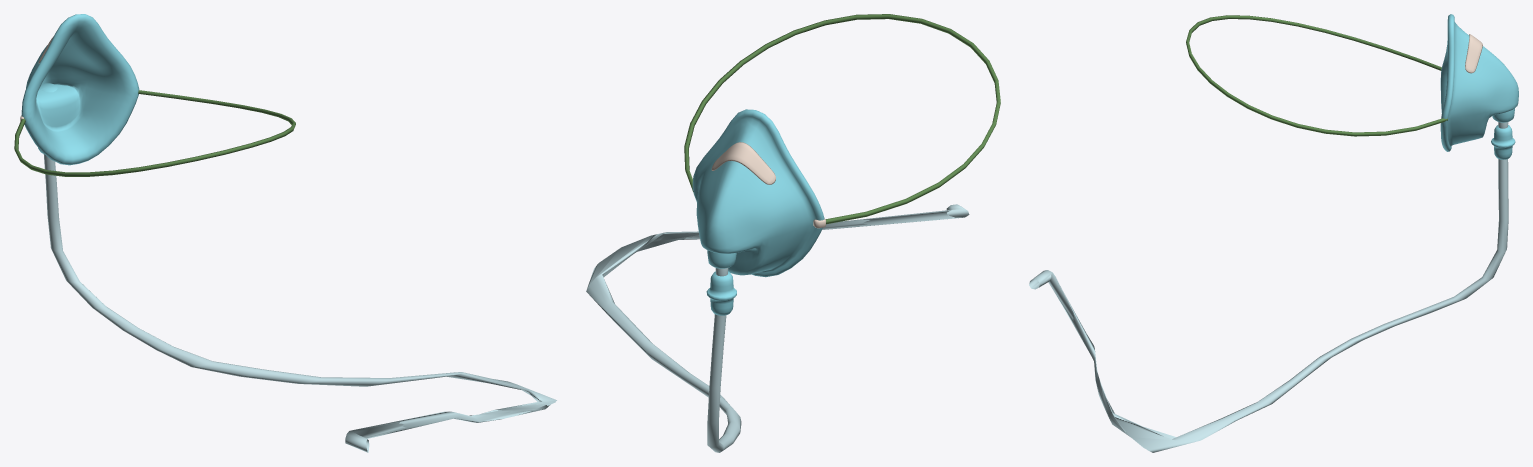
Rendered from oxygen_mask_3_6.fbx.
The picture shows the model from 3 angles, left to right: view 1: azimuth 30°, elevation 25°; view 2: azimuth 150°, elevation 25°; view 3: azimuth 270°, elevation 25°; orthographic projection. The views are drawn at different scales.
Visible parts, largest first — view 1: oxygen-mask, thread2; view 2: oxygen-mask, thread2; view 3: oxygen-mask, thread2.
Part boxes in pixels (bbox=[...]): oxygen-mask: bbox=[14, 14, 295, 176]; thread2: bbox=[43, 154, 556, 452]; oxygen-mask: bbox=[684, 14, 1000, 315]; thread2: bbox=[586, 204, 969, 452]; oxygen-mask: bbox=[1186, 14, 1518, 159]; thread2: bbox=[1029, 159, 1508, 452].
Bounding box in the file's own units: 0.2685 × 0.2988 × 0.2058.
